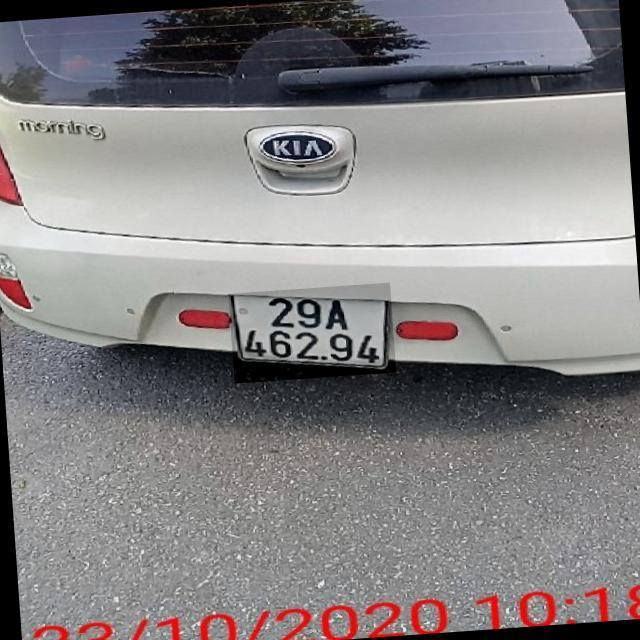car: (0, 10, 626, 399)
plate: (218, 288, 397, 370)
